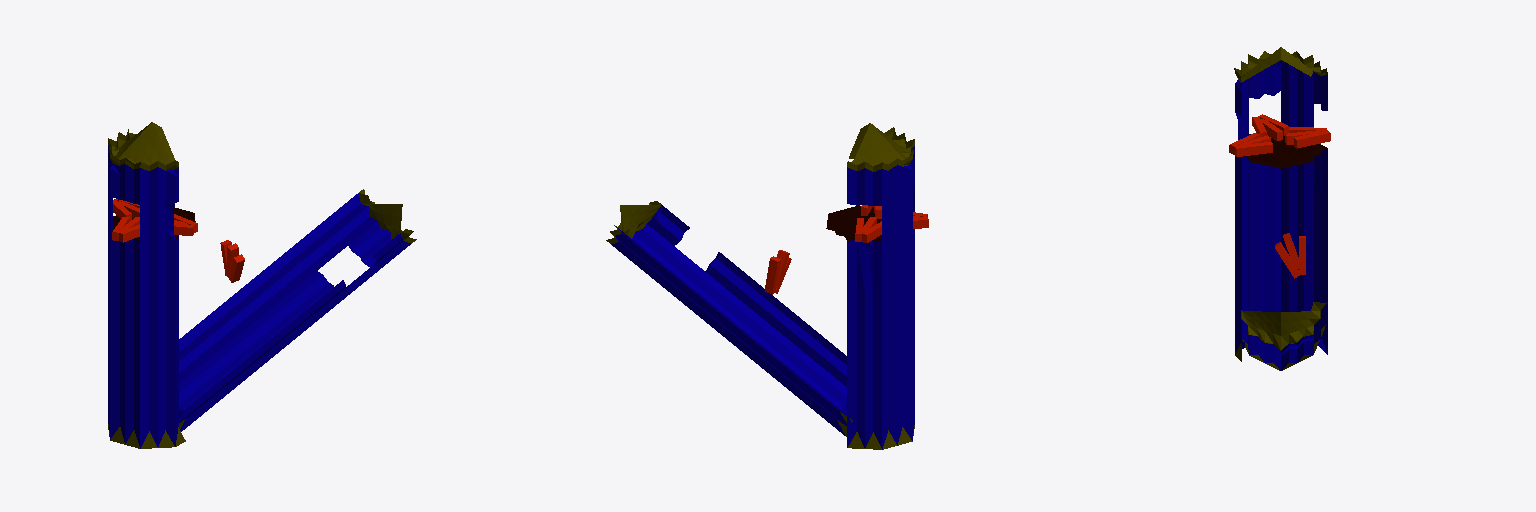
Rendered from ballistictower2d.obj.
The picture shows the model from 3 angles: view 1: azimuth 30°, elevation 25°; view 2: azimuth 150°, elevation 25°; view 3: azimuth 270°, elevation 25°; orthographic projection.
Visible parts, largest first — view 1: Cube, Cube.013; view 2: Cube, Cube.013; view 3: Cube, Cube.013.
Boxes of the visible parts, x1,y1,x2,y2 form: Cube: [108, 122, 195, 448]; Cube.013: [179, 189, 416, 431]; Cube: [826, 123, 914, 449]; Cube.013: [606, 201, 852, 436]; Cube: [1234, 47, 1327, 361]; Cube.013: [1241, 302, 1327, 370].
Bounding box in the file's own units: 11.74 × 11.71 × 3.38.